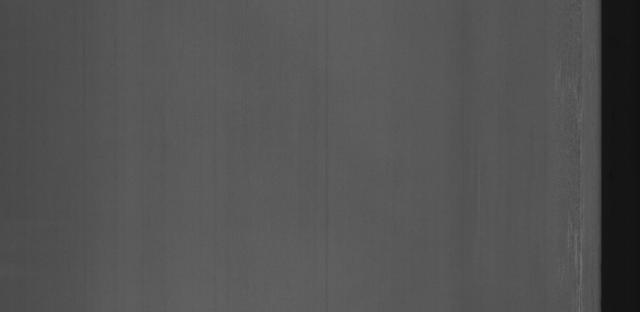silk_spot: (539, 199, 593, 286)
